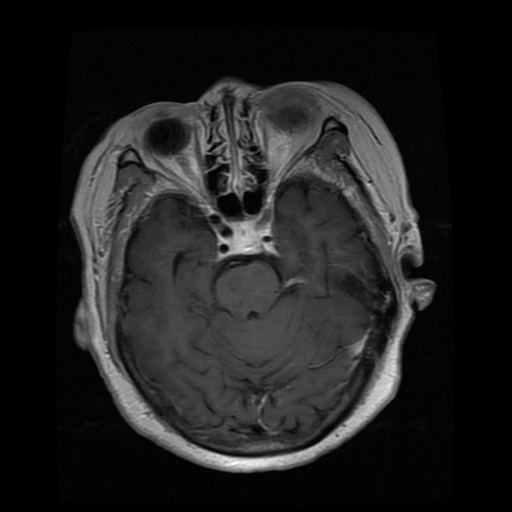pituitary: (231, 219, 261, 252)
